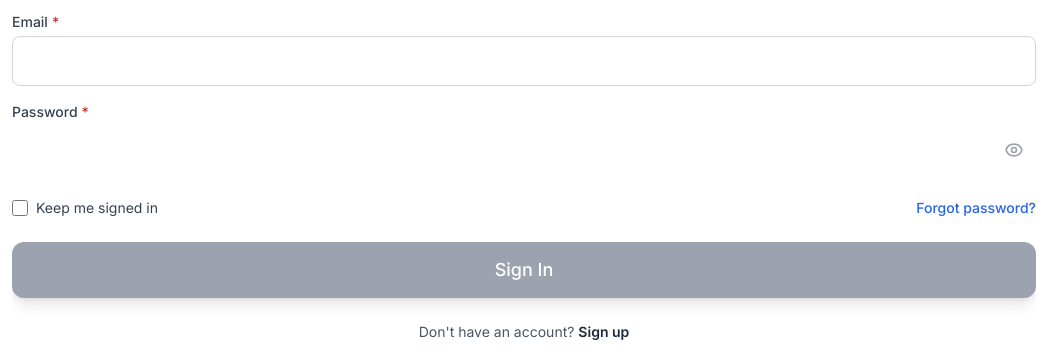
Test: LoginForm › enables submit button when both fields have values
The width and height of the screenshot is (1048, 357).
Type "test@example.com" into the field labelled "Email*" at (524, 61), box [12,36,1036,86]
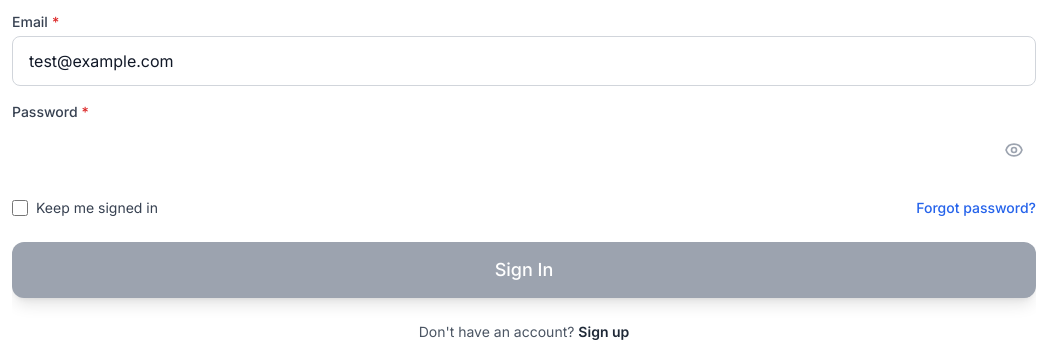
Type "password123" into the password field labelled "Password*" at (524, 150), box [12,126,1036,174]
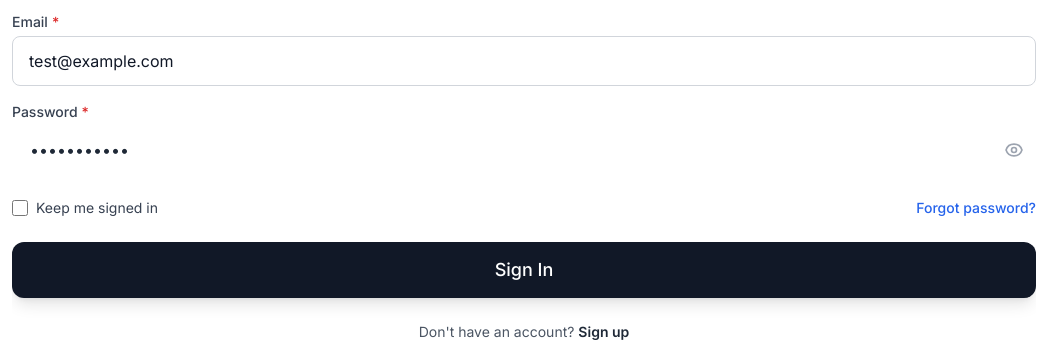
Check: the button "Sign In" is enabled, box [12,242,1036,298]
